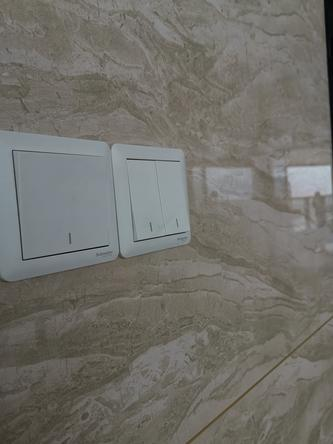switch: (11, 133, 114, 262), (124, 152, 167, 245), (154, 154, 190, 239)
